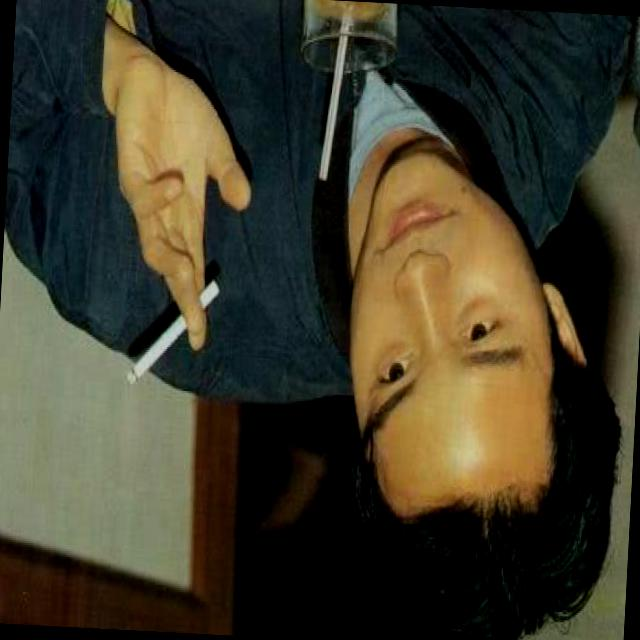cigarette: (122, 268, 225, 398)
